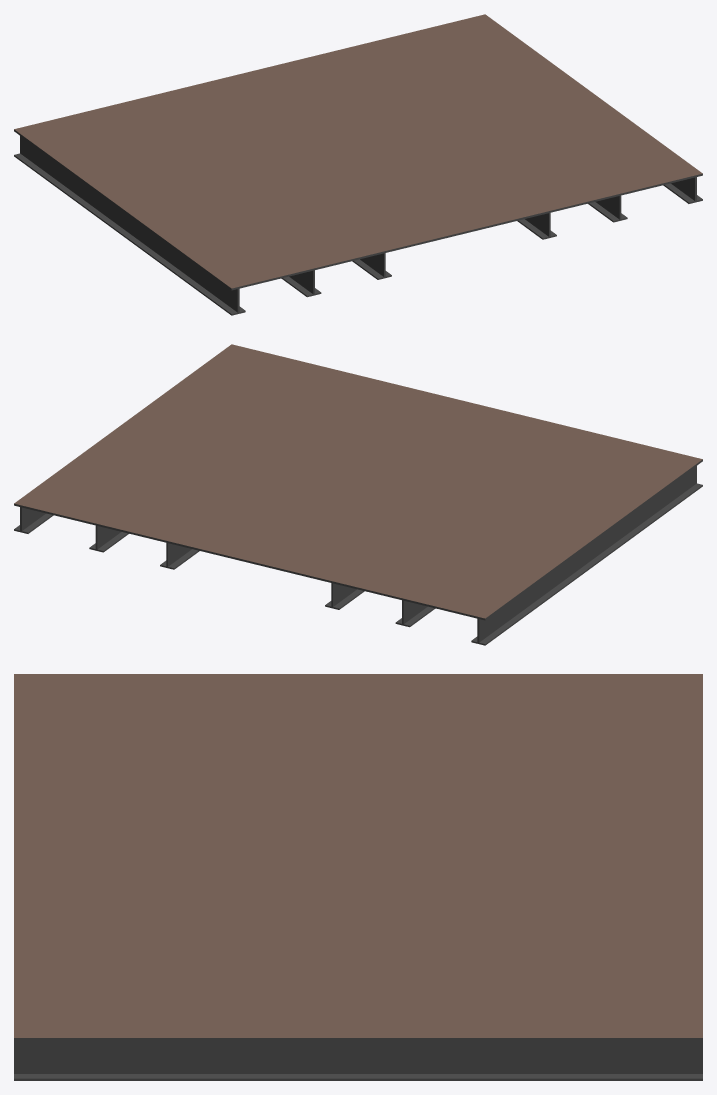
Rendered from body.fbx.
3 views of the same model, one above another, from view 1: azimuth 30°, elevation 25°; view 2: azimuth 150°, elevation 25°; view 3: azimuth 270°, elevation 25° (orthographic). The views are drawn at different scales.
Parts seen in each view (by area): view 1: body.007; view 2: body.007; view 3: body.007.
Boxes of the visible parts, x1,y1,x2,y2 form: body.007: [14, 14, 702, 315]; body.007: [14, 344, 702, 645]; body.007: [14, 674, 702, 1080].
Bounding box in the file's own units: 10 × 0.55 × 8.
